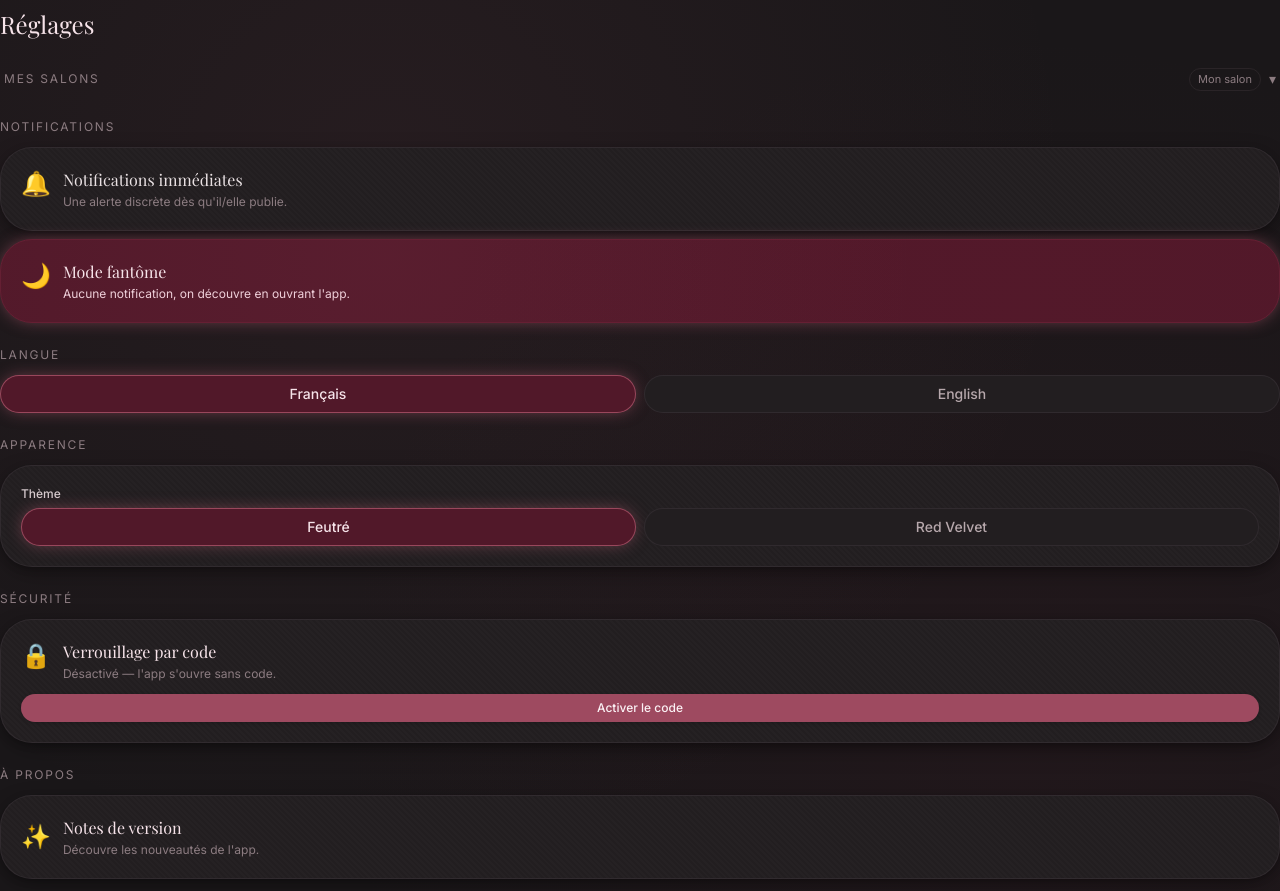
Test case: SettingsScreen — Mes salons (#67) › cliquer sur l'en-tête ouvre la section repliée
Click the button "Mes salons Mon salon ▾" at (52, 79), box [0,64,1279,94]
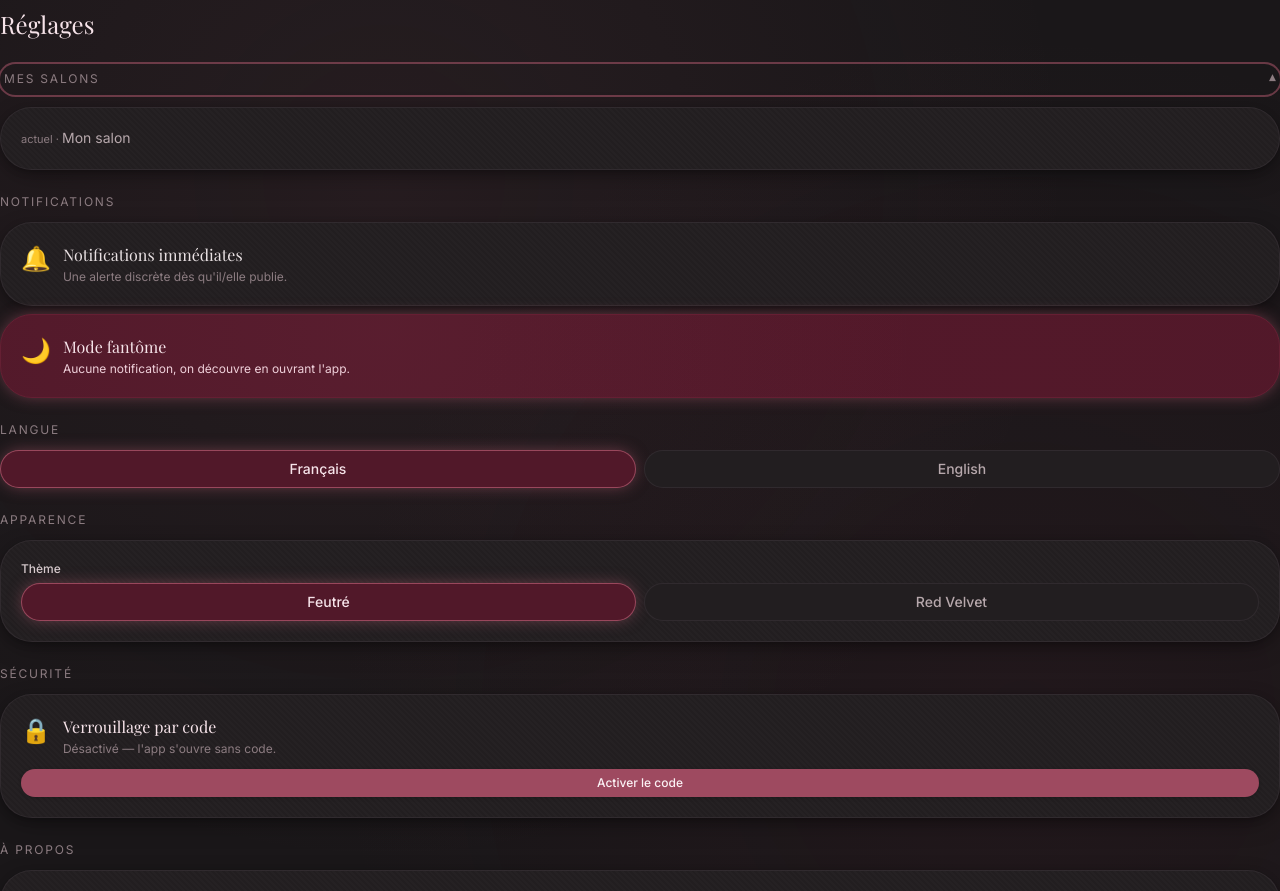
Now the button "Mes salons ▾" is expanded, box [0,64,1279,94]
